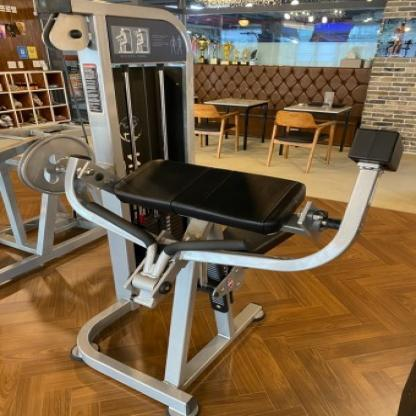arm curl machine: (17, 129, 407, 416)
